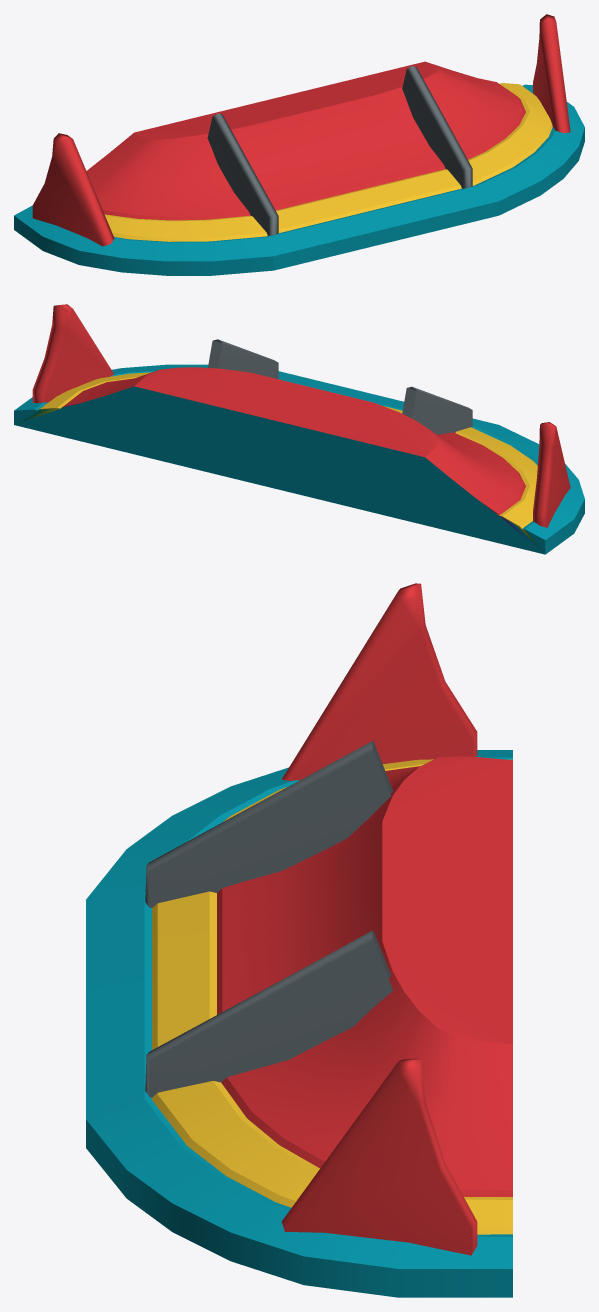
Rendered from Car_09_FrontBumper_Cool.fbx.
3 views of the same model, one above another, from view 1: azimuth 30°, elevation 25°; view 2: azimuth 150°, elevation 25°; view 3: azimuth 270°, elevation 25° (orthographic). The views are drawn at different scales.
Visible parts, largest first — view 1: Car_09_FrontBumper_Cool; view 2: Car_09_FrontBumper_Cool; view 3: Car_09_FrontBumper_Cool.
Part boxes in pixels (x1,y1,x2,y2): Car_09_FrontBumper_Cool: [14, 14, 584, 275]; Car_09_FrontBumper_Cool: [14, 304, 584, 554]; Car_09_FrontBumper_Cool: [86, 583, 512, 1297].
Bounding box in the file's own units: 200 × 69.55 × 38.91.
